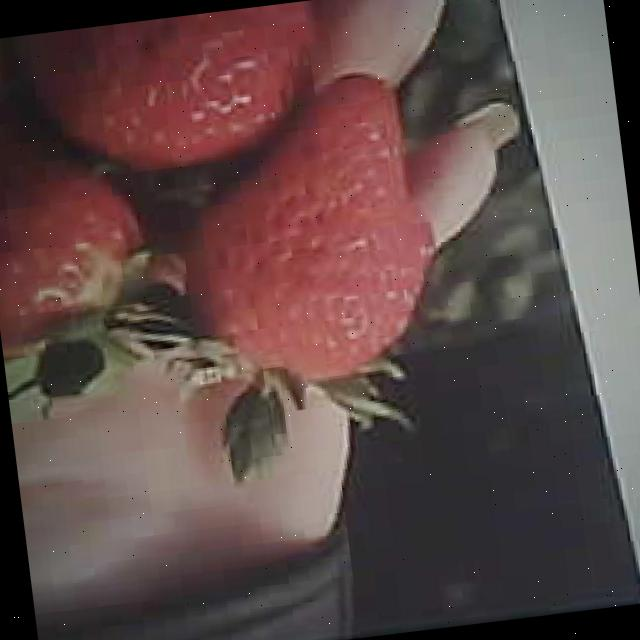strawberry: (168, 70, 444, 396)
